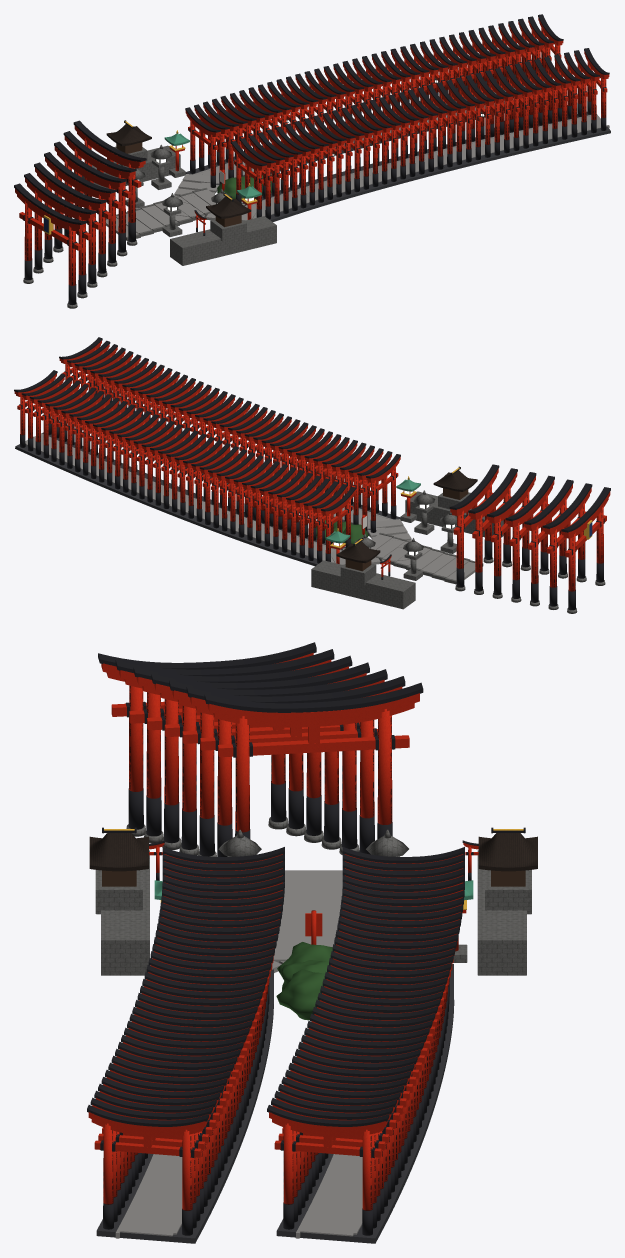
The model's file is Asset_10_Senbon_Torii_Twin_Tunnels_Full.glb.
3 renders of one model, top to bottom at view 1: azimuth 30°, elevation 25°; view 2: azimuth 150°, elevation 25°; view 3: azimuth 270°, elevation 25°, orthographic. The views are drawn at different scales.
Parts seen in each view (by area): view 1: Z04_RetainingWall_-1, Z04_RetainingWall_1, Z04_Otsuka_Roof_-1, Z04_Otsuka_Roof_1, Z04_Otsuka_Base_-1, Z04_Approach_Torii_06_Kasagi_BlackCap, Z04_Approach_Torii_05_Kasagi_BlackCap, Z04_Approach_Torii_01_Kasagi_BlackCap, Z04_Approach_Torii_00_Kasagi_BlackCap, Z04_Approach_Torii_03_Kasagi_BlackCap, Z04_Approach_Torii_02_Kasagi_BlackCap, Z04_Approach_Torii_04_Kasagi_BlackCap (+1 smaller); view 2: Z04_RetainingWall_1, Z04_RetainingWall_-1, Z04_Otsuka_Roof_1, Z04_Otsuka_Roof_-1, Z04_Otsuka_Base_1, Z04_Approach_Torii_01_Kasagi_BlackCap, Z04_Approach_Torii_04_Kasagi_BlackCap, Z04_Approach_Torii_06_Kasagi_BlackCap, Z04_Approach_Torii_02_Kasagi_BlackCap, Z04_Approach_Torii_03_Kasagi_BlackCap, Z04_Approach_Torii_00_Kasagi_BlackCap, Z04_Approach_Torii_05_Kasagi_BlackCap (+5 smaller); view 3: Z04_RetainingWall_1, Z04_RetainingWall_-1, Z04_Approach_Torii_06_Kasagi_BlackCap, Z04_Otsuka_Roof_-1, Z04_Otsuka_Roof_1, Z04_Approach_Torii_06_Nuki, Z04_Approach_Torii_06_Kasagi_Body, Z04_Approach_Torii_04_Kasagi_BlackCap, Z04_Approach_Torii_01_Kasagi_BlackCap, Z04_Approach_Torii_00_Kasagi_BlackCap, Z04_Approach_Torii_05_Kasagi_BlackCap, Z04_Approach_Torii_03_Kasagi_BlackCap (+99 smaller).
Part boxes in pixels (<box>): Z04_RetainingWall_-1: <box>170,216,276,265</box>; Z04_RetainingWall_1: <box>74,145,180,193</box>; Z04_Otsuka_Roof_-1: <box>206,197,251,218</box>; Z04_Otsuka_Roof_1: <box>106,124,151,146</box>; Z04_Otsuka_Base_-1: <box>210,219,246,241</box>; Z04_Approach_Torii_06_Kasagi_BlackCap: <box>73,120,146,162</box>; Z04_Approach_Torii_05_Kasagi_BlackCap: <box>63,131,136,172</box>; Z04_Approach_Torii_01_Kasagi_BlackCap: <box>24,173,96,214</box>; Z04_Approach_Torii_00_Kasagi_BlackCap: <box>14,183,86,224</box>; Z04_Approach_Torii_03_Kasagi_BlackCap: <box>44,152,116,193</box>; Z04_Approach_Torii_02_Kasagi_BlackCap: <box>34,162,106,203</box>; Z04_Approach_Torii_04_Kasagi_BlackCap: <box>54,141,126,183</box>; Z04_RetainingWall_1: <box>311,560,415,609</box>; Z04_RetainingWall_-1: <box>405,491,503,537</box>; Z04_Otsuka_Roof_1: <box>336,541,380,563</box>; Z04_Otsuka_Roof_-1: <box>433,470,477,491</box>; Z04_Otsuka_Base_1: <box>340,563,376,585</box>; Z04_Approach_Torii_01_Kasagi_BlackCap: <box>542,483,592,528</box>; Z04_Approach_Torii_04_Kasagi_BlackCap: <box>487,472,536,517</box>; Z04_Approach_Torii_06_Kasagi_BlackCap: <box>449,464,499,509</box>; Z04_Approach_Torii_02_Kasagi_BlackCap: <box>524,479,573,524</box>; Z04_Approach_Torii_03_Kasagi_BlackCap: <box>505,475,554,521</box>; Z04_Approach_Torii_00_Kasagi_BlackCap: <box>561,487,610,532</box>; Z04_Approach_Torii_05_Kasagi_BlackCap: <box>468,468,517,513</box>; Z04_RetainingWall_1: <box>477,850,526,975</box>; Z04_RetainingWall_-1: <box>101,850,149,975</box>; Z04_Approach_Torii_06_Kasagi_BlackCap: <box>204,682,423,712</box>; Z04_Otsuka_Roof_-1: <box>89,833,148,871</box>; Z04_Otsuka_Roof_1: <box>478,833,537,871</box>; Z04_Approach_Torii_06_Nuki: <box>218,735,409,757</box>; Z04_Approach_Torii_06_Kasagi_Body: <box>207,693,419,721</box>; Z04_Approach_Torii_04_Kasagi_BlackCap: <box>169,669,387,696</box>; Z04_Approach_Torii_01_Kasagi_BlackCap: <box>115,649,334,676</box>; Z04_Approach_Torii_00_Kasagi_BlackCap: <box>98,642,316,669</box>; Z04_Approach_Torii_05_Kasagi_BlackCap: <box>186,676,405,703</box>; Z04_Approach_Torii_03_Kasagi_BlackCap: <box>151,662,369,689</box>.
Size of the model in its own units: 30.33 by 6.06 by 11.02.
Materials: 15 (5 with a texture image).
